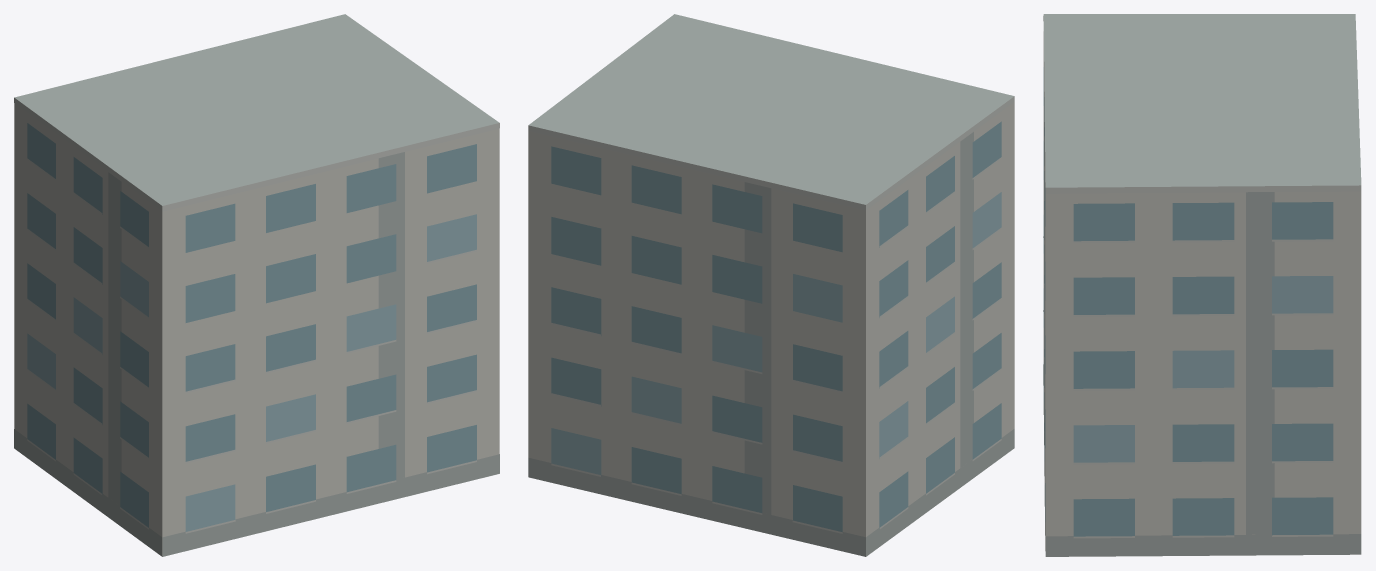
Rendered from survey-upis-32601130.glb.
3 renders of one model, left to right at view 1: azimuth 30°, elevation 25°; view 2: azimuth 150°, elevation 25°; view 3: azimuth 270°, elevation 25°, orthographic. The views are drawn at different scales.
Parts seen in each view (by area): view 1: survey-upis-32601130.tmp; view 2: survey-upis-32601130.tmp; view 3: survey-upis-32601130.tmp.
Boxes of the visible parts, x1=… form: survey-upis-32601130.tmp: x1=14, y1=14, x2=499, y2=556; survey-upis-32601130.tmp: x1=528, y1=14, x2=1014, y2=556; survey-upis-32601130.tmp: x1=1043, y1=14, x2=1361, y2=556.
Bounding box in the file's own units: 15.4 × 15.25 × 11.91.
